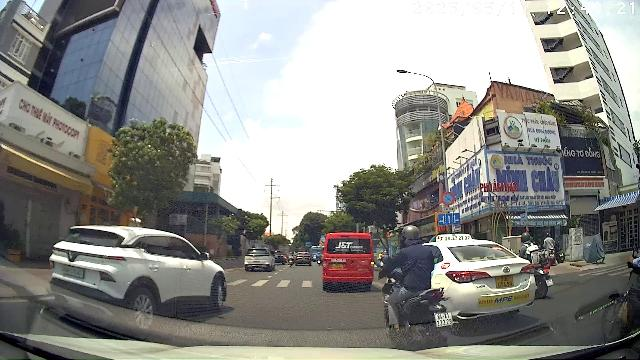131a-cam-do-xe: (442, 192, 454, 206)
